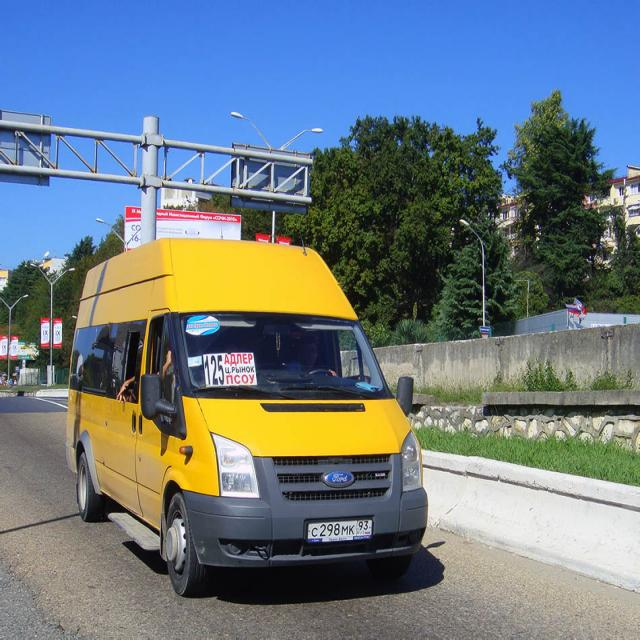number-of-bus: (204, 356, 227, 387)
